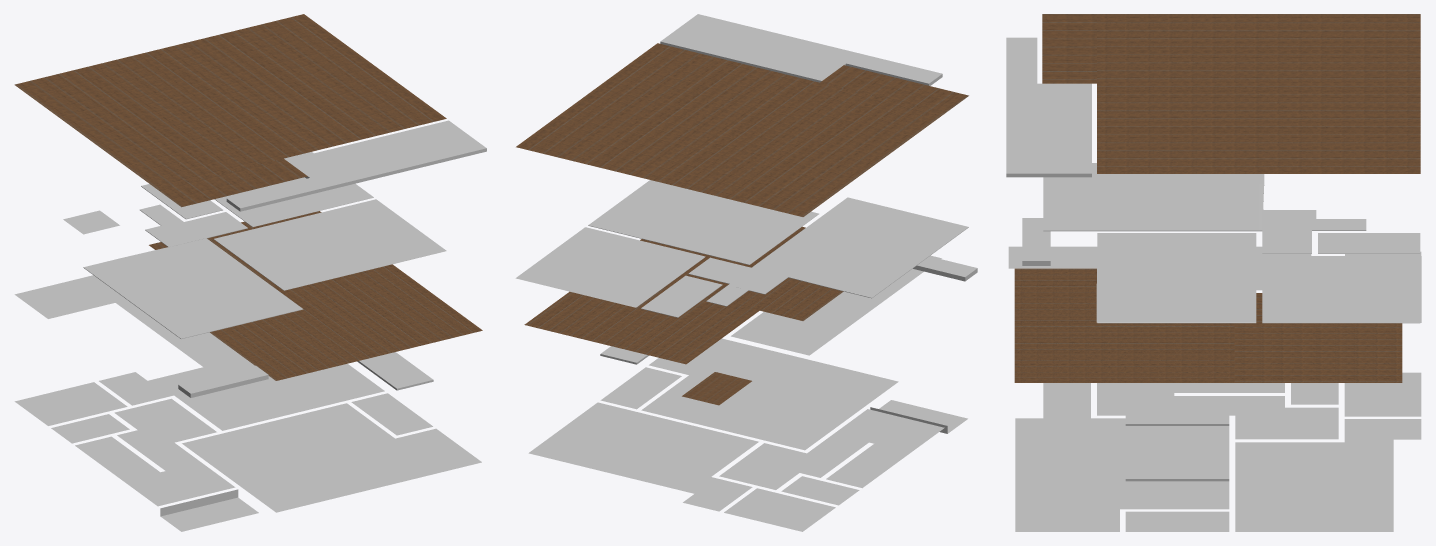
File: 家3天井床用BoxCollider.fbx
The picture shows the model from 3 angles, left to right: view 1: azimuth 30°, elevation 25°; view 2: azimuth 150°, elevation 25°; view 3: azimuth 270°, elevation 25°; orthographic projection. The views are drawn at different scales.
Visible parts, largest first — view 1: Plane.141, Plane.184, Plane.175, Plane.177, Plane.176, Plane.044, Plane.140, Plane.142, Plane.111, Plane.047, Plane.038, Plane.067 (+19 smaller); view 2: Plane.141, Plane.175, Plane.044, Plane.177, Plane.176, Plane.077, Plane.111, Plane.140, Plane.184, Plane.142, Plane.067, Plane.073 (+19 smaller); view 3: Plane.141, Plane.184, Plane.175, Plane.176, Plane.044, Plane.177, Plane.111, Plane.077, Plane.140, Plane.142, Plane.047, Plane.041 (+20 smaller).
Part boxes in pixels (x1,y1,x2,y2): Plane.141: (14,14,446,189); Plane.184: (210,264,482,380); Plane.175: (182,403,440,512); Plane.177: (87,239,302,338); Plane.176: (214,199,446,289); Plane.044: (153,363,384,430); Plane.140: (286,120,486,191); Plane.142: (157,158,307,207); Plane.111: (215,152,373,226); Plane.047: (14,382,127,425); Plane.038: (124,462,235,506); Plane.067: (14,275,115,318); Plane.141: (516,43,944,216); Plane.175: (641,341,898,450); Plane.044: (528,402,758,492); Plane.177: (753,197,967,295); Plane.176: (588,180,818,264); Plane.077: (524,287,759,364); Plane.111: (515,227,705,307); Plane.140: (660,14,859,82); Plane.184: (640,226,843,320); Plane.142: (820,65,968,113); Plane.067: (719,381,835,425); Plane.073: (731,311,842,355); Plane.141: (1097,14,1420,173); Plane.184: (1014,268,1234,382); Plane.175: (1015,418,1229,509); Plane.176: (1096,233,1256,322); Plane.044: (1235,442,1393,531); Plane.177: (1043,163,1258,230); Plane.111: (1262,256,1421,322); Plane.077: (1234,293,1402,382); Plane.140: (1006,83,1091,177); Plane.142: (1042,14,1096,83); Plane.047: (1344,372,1421,416); Plane.041: (1235,415,1338,439).
Bounding box in the file's own units: 632 × 677 × 694.
